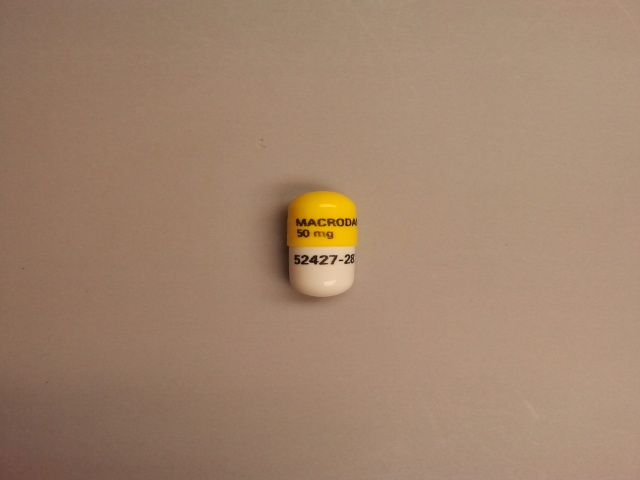capsule: (284, 188, 355, 297)
